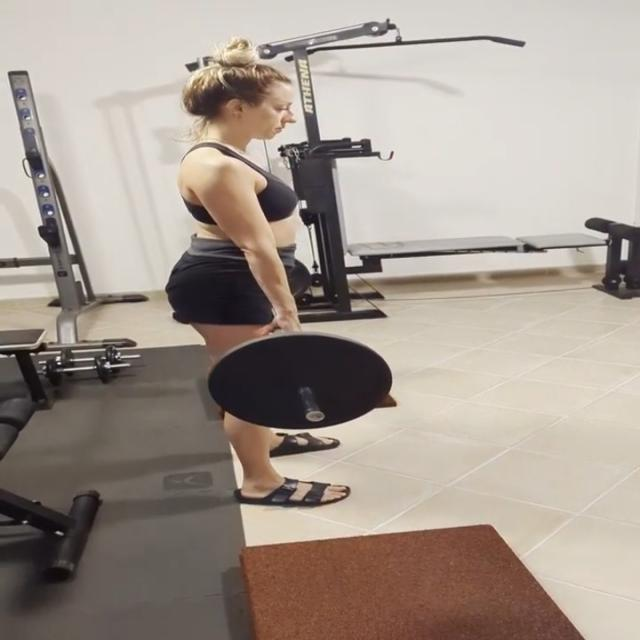barbell: (204, 328, 399, 433)
